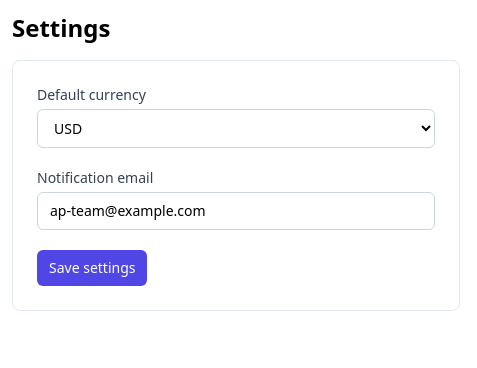
Scenario: SettingsPage › shows an error and keeps the typed values when saving fails
The image size is (477, 368).
Replace the text in the field labelled "Notification email" with "finance@example.com" at (236, 211), box [37,192,435,230]
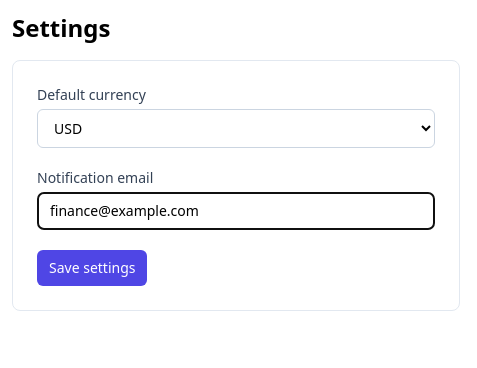
Click the button "Save settings" at (92, 268), box [37,250,148,286]
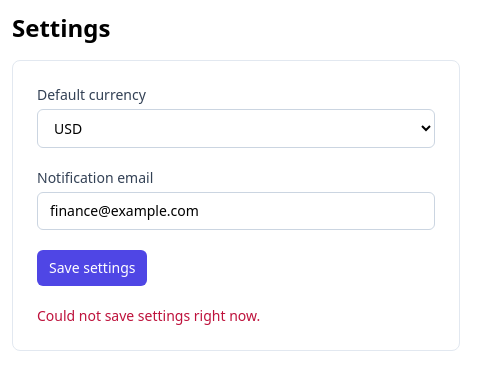
Result: the message reads "Could not save settings right now." at [37,306,260,325]
